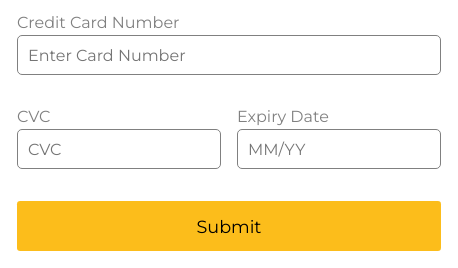
Form › should format expiry date
Type "1223" into the field labelled "Expiry Date" at (339,149), box [237, 129, 441, 169]
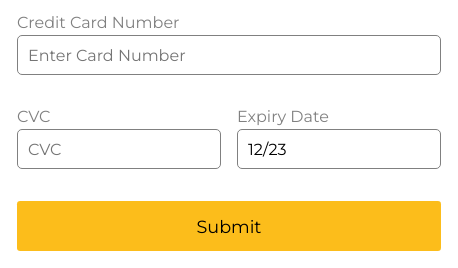
Expected: the field labelled "Expiry Date" holds "12/23", [237, 129, 441, 169]
